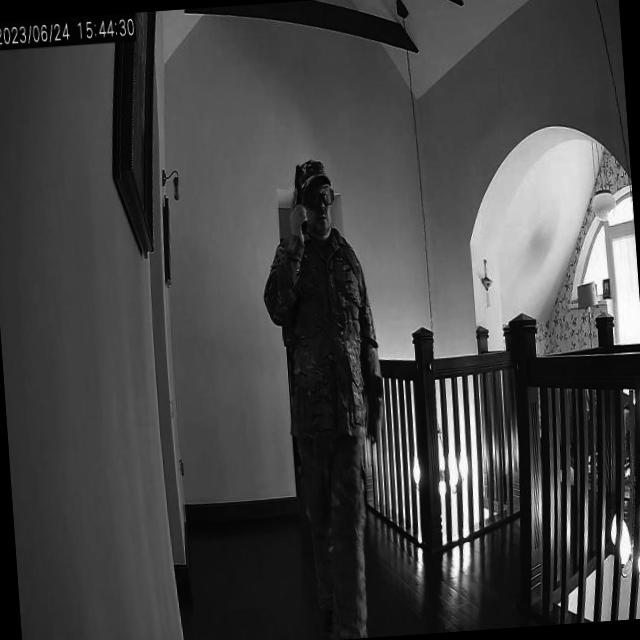gun: (286, 163, 310, 233)
person with a gun: (256, 153, 398, 640)
